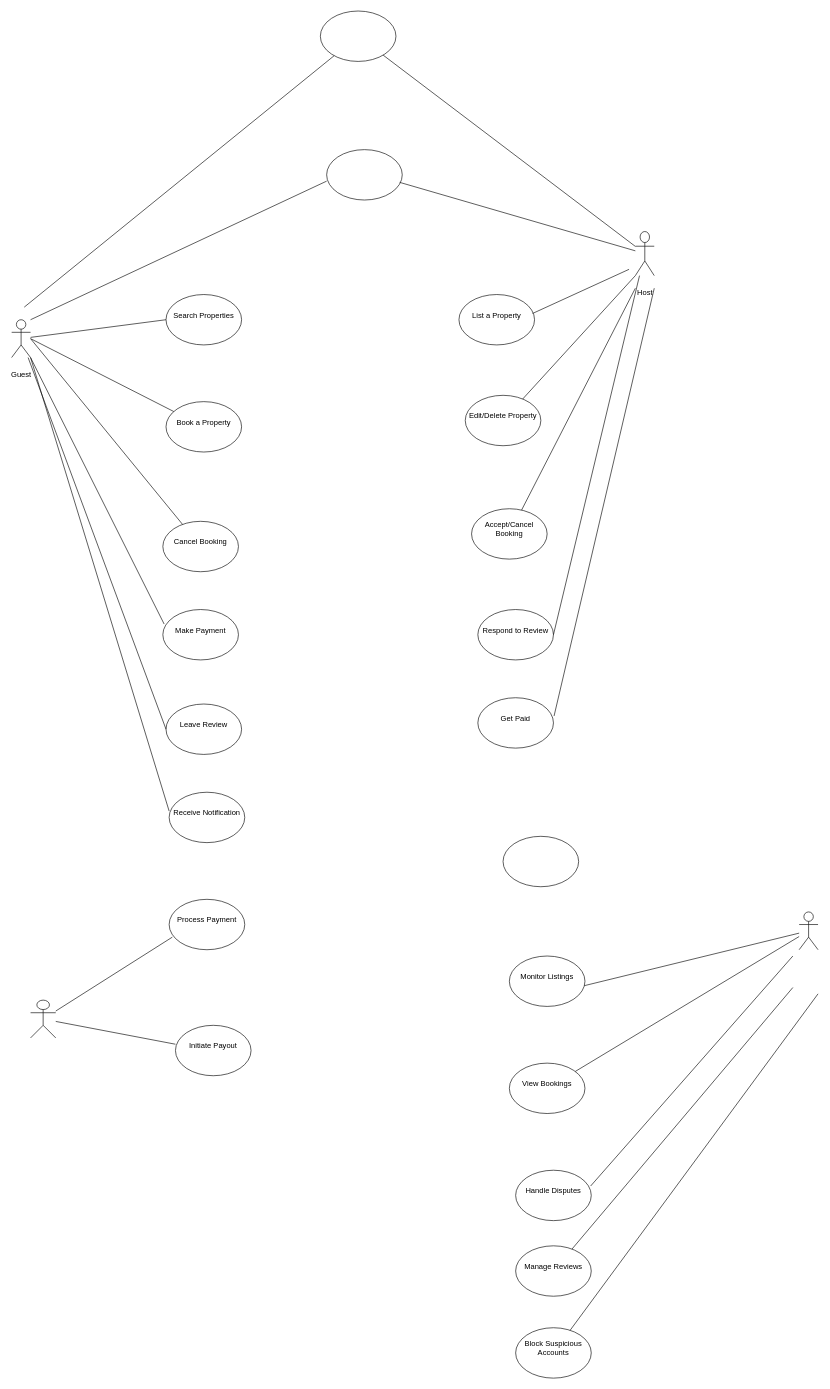
Some shapes in this 830 by 1389 pixel diagram are drawn without their labels. The centre of each missing label's shape, as x and y in pixels:
"Admin" belongs at point (808, 930).
"Log In" belongs at point (358, 35).
"Manage Users" belongs at point (540, 861).
"Payment Gateway" belongs at point (43, 1018).
"Register Account" belongs at point (364, 174).
